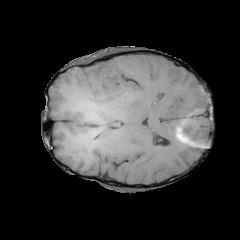glioma: (72, 64, 121, 112)
